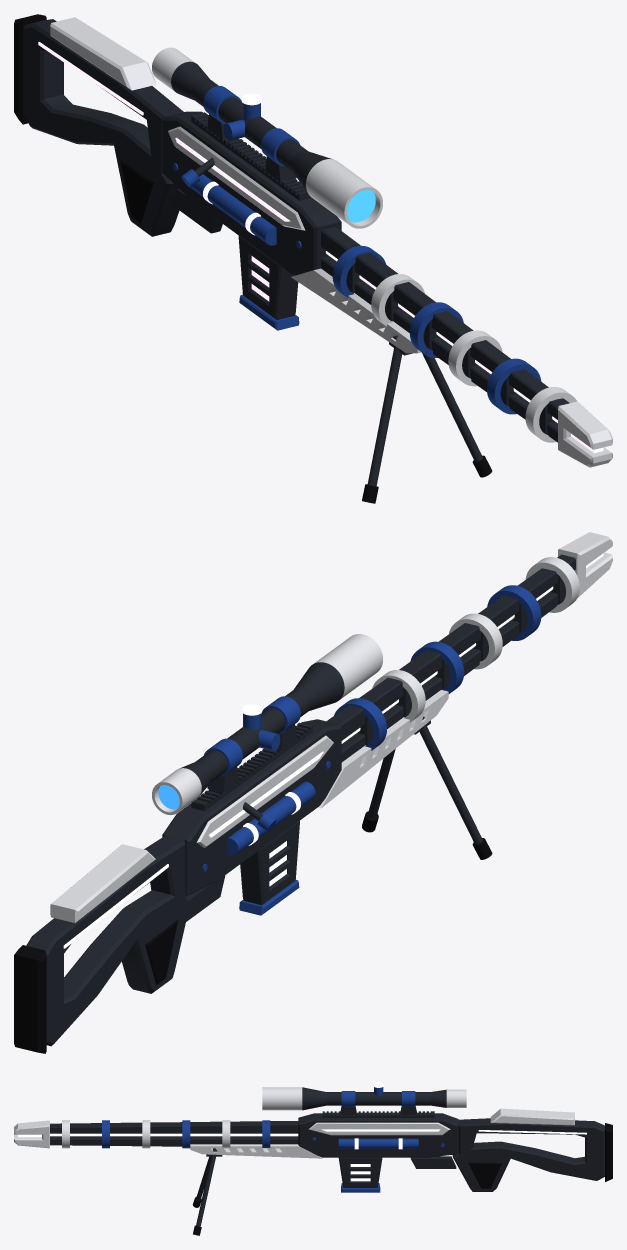
The model's file is Sniper_LRX_Longshot.fbx.
3 renders of one model, top to bottom at view 1: azimuth 30°, elevation 25°; view 2: azimuth 150°, elevation 25°; view 3: azimuth 270°, elevation 25°, orthographic. The views are drawn at different scales.
Visible parts, largest first — view 1: stock, receiver, rail_upper, cheek_rest, magazine, scope_bell, receiver_armor, muzzle_block, forend, rail_lower, scope_tube, cell_R (+16 smaller); view 2: stock, receiver, rail_upper, cheek_rest, butt_pad, magazine, forend, receiver_armor, rail_lower, scope_bell, scope_tube, muzzle_block (+13 smaller); view 3: stock, receiver, rail_upper, rail_lower, receiver_armor, forend, cheek_rest, magazine, scope_tube, scope_bell, muzzle_block, cell_L (+19 smaller).
Boxes of the visible parts, left/top/right/bottom form: stock: left=23, top=19, right=183, bottom=236; receiver: left=162, top=111, right=341, bottom=275; rail_upper: left=321, top=226, right=569, bottom=419; cheek_rest: left=50, top=17, right=155, bottom=90; magazine: left=238, top=236, right=298, bottom=319; scope_bell: left=306, top=159, right=382, bottom=228; receiver_armor: left=168, top=126, right=305, bottom=230; muzzle_block: left=558, top=401, right=612, bottom=467; forend: left=291, top=268, right=421, bottom=353; rail_lower: left=321, top=256, right=557, bottom=442; scope_tube: left=190, top=77, right=307, bottom=171; cell_R: left=191, top=174, right=276, bottom=245; stock: left=26, top=835, right=190, bottom=1046; receiver: left=162, top=719, right=341, bottom=896; rail_upper: left=326, top=554, right=575, bottom=740; cheek_rest: left=50, top=844, right=155, bottom=922; butt_pad: left=14, top=945, right=46, bottom=1053; magazine: left=240, top=821, right=299, bottom=905; forend: left=318, top=690, right=448, bottom=808; receiver_armor: left=196, top=735, right=333, bottom=847; rail_lower: left=341, top=587, right=565, bottom=762; scope_bell: left=314, top=634, right=382, bottom=699; scope_tube: left=195, top=687, right=313, bottom=782; muzzle_block: left=558, top=532, right=612, bottom=597; stock: left=452, top=1118, right=604, bottom=1191; receiver: left=298, top=1113, right=458, bottom=1157; rail_upper: left=50, top=1121, right=298, bottom=1133; rail_lower: left=50, top=1136, right=298, bottom=1146; receiver_armor: left=309, top=1122, right=450, bottom=1135; forend: left=190, top=1144, right=322, bottom=1158; cheek_rest: left=490, top=1108, right=574, bottom=1125; magazine: left=338, top=1157, right=382, bottom=1187; scope_tube: left=326, top=1092, right=430, bottom=1105; scope_bell: left=262, top=1087, right=302, bottom=1110; muzzle_block: left=14, top=1120, right=49, bottom=1148; cell_L: left=338, top=1138, right=418, bottom=1148.
Size of the model in its own units: 0.1928 by 0.3778 by 1.5.
